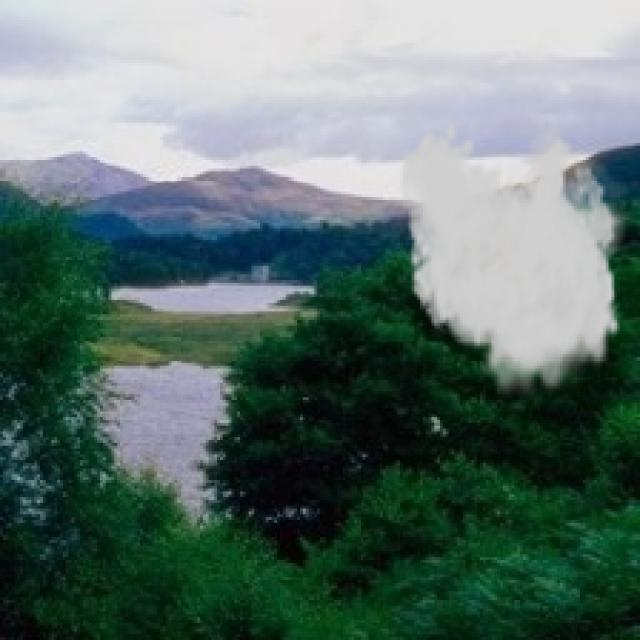smoke: (397, 120, 634, 403)
